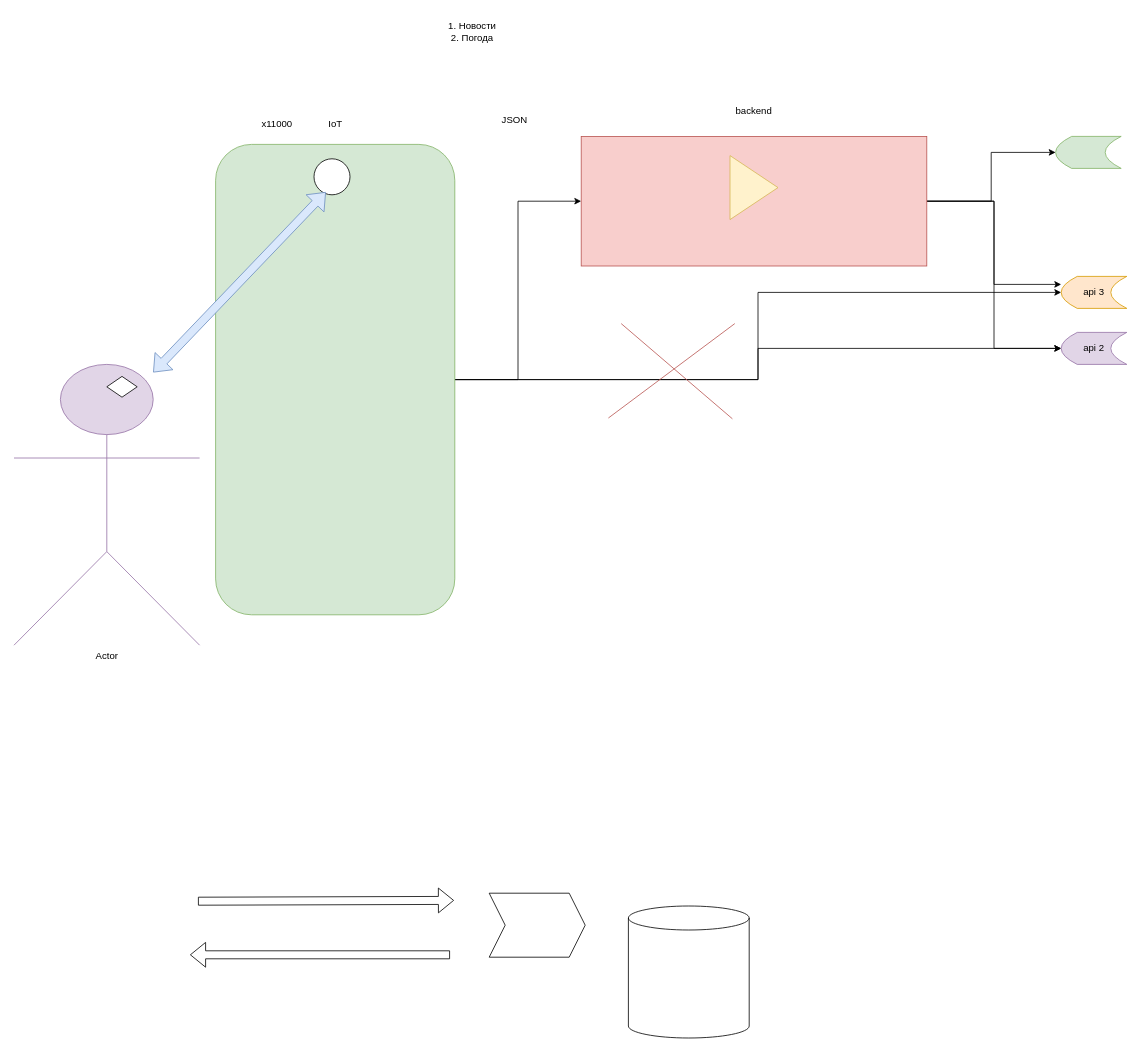
This 1141x1052 diagram has some shape labels left out. The centre of each missing label's shape, as x and y in pixels:
"api 1" goes at pixel 1088 152.
"ЯДРО" goes at pixel 753 187.
